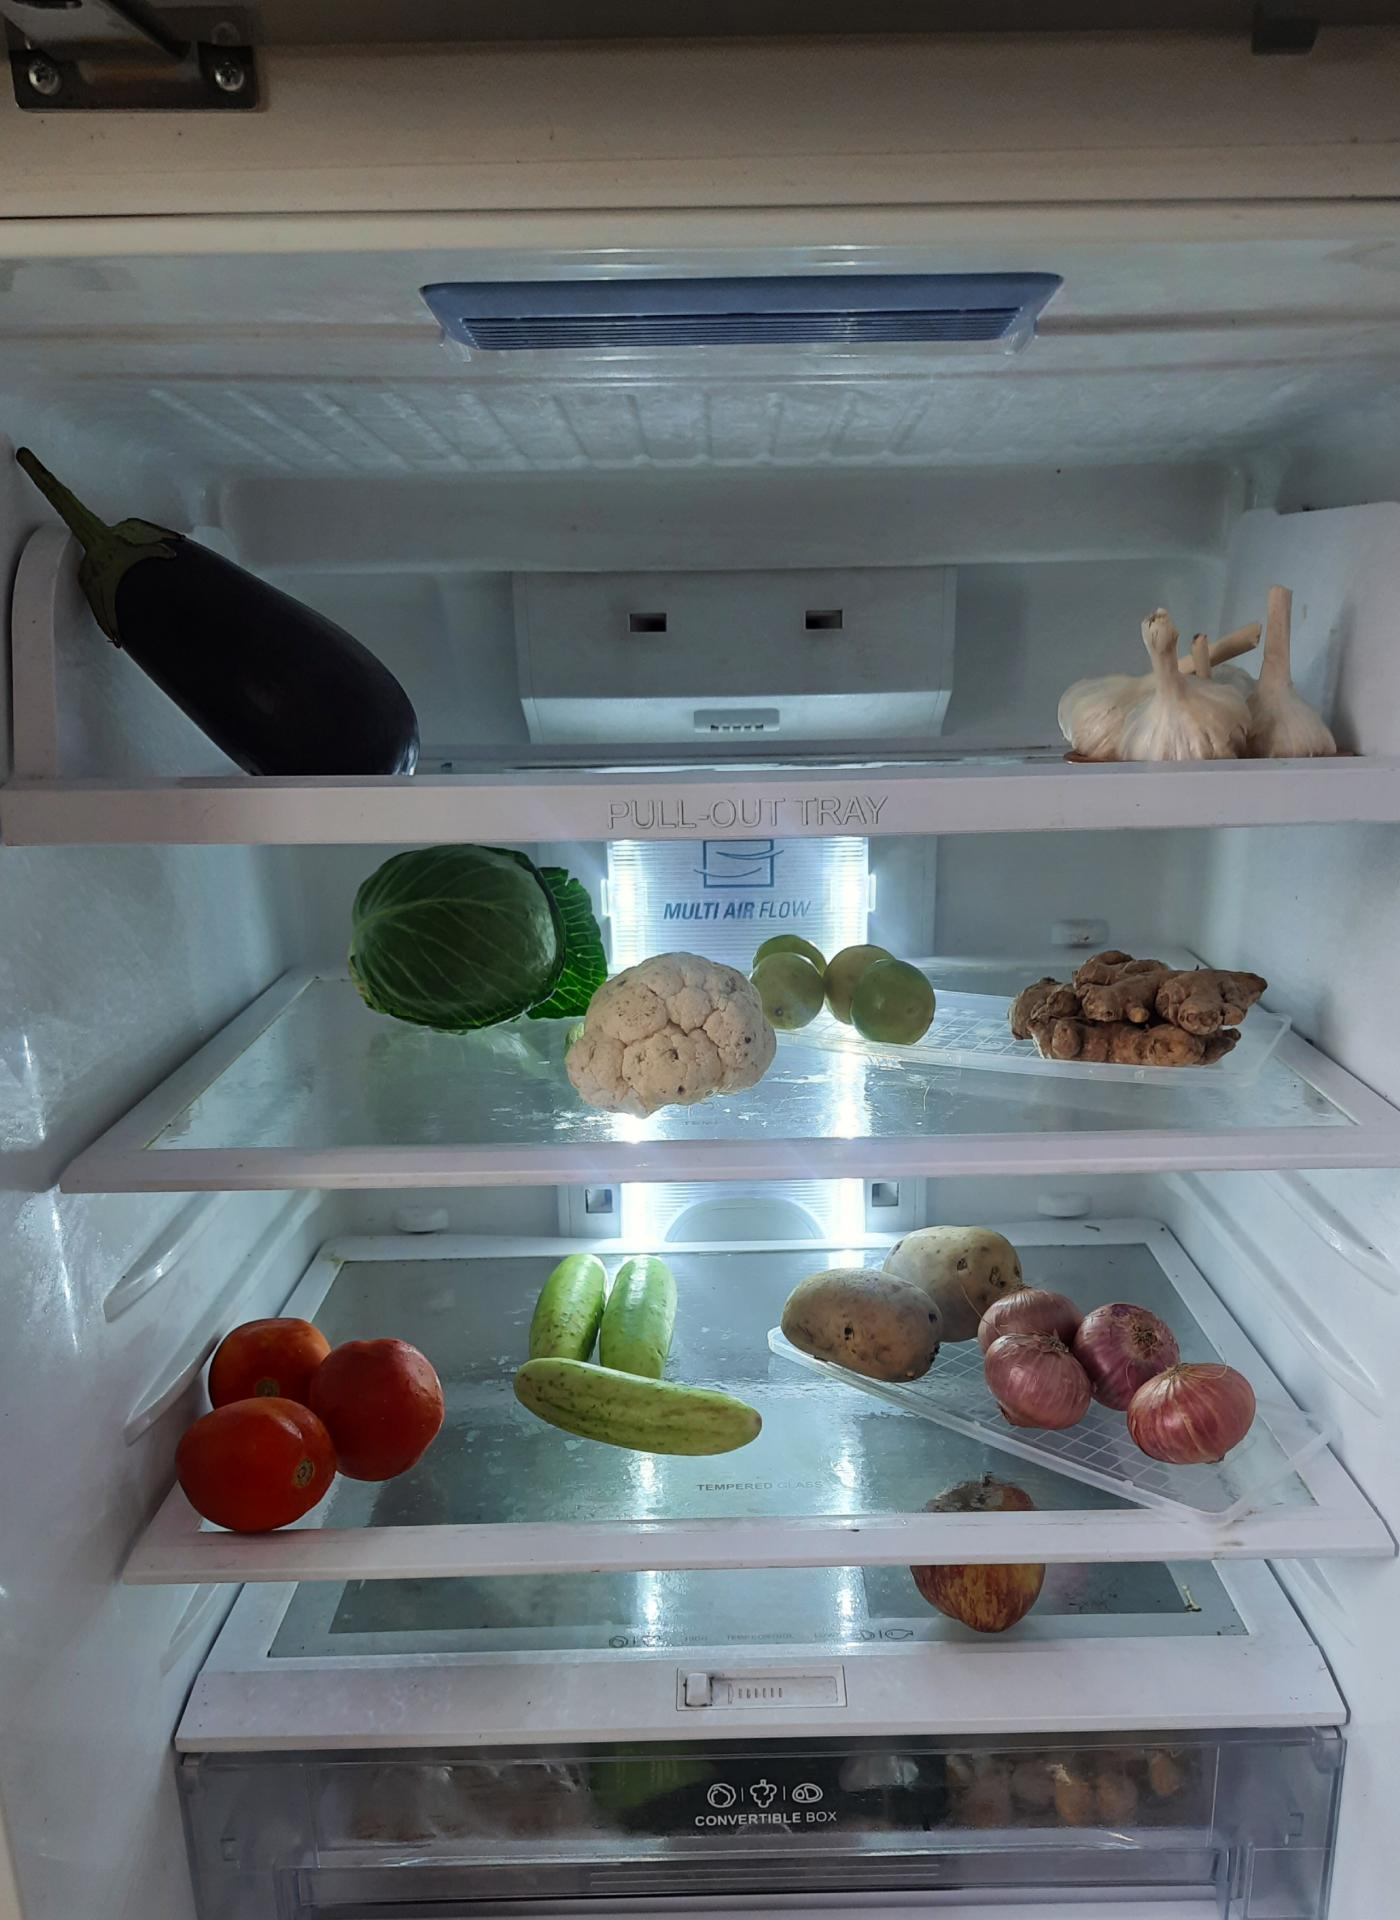apple: (927, 1474, 1044, 1634)
brinjal: (24, 446, 446, 784)
cabbage: (355, 850, 601, 1033)
cauliflower: (573, 945, 781, 1108)
cucumber: (522, 1257, 768, 1468)
garlic: (1073, 598, 1349, 751)
ginger: (1011, 944, 1261, 1079)
lemon: (759, 927, 948, 1058)
onion: (965, 1289, 1273, 1474)
potato: (792, 1218, 1027, 1392)
tomato: (176, 1301, 447, 1526)
